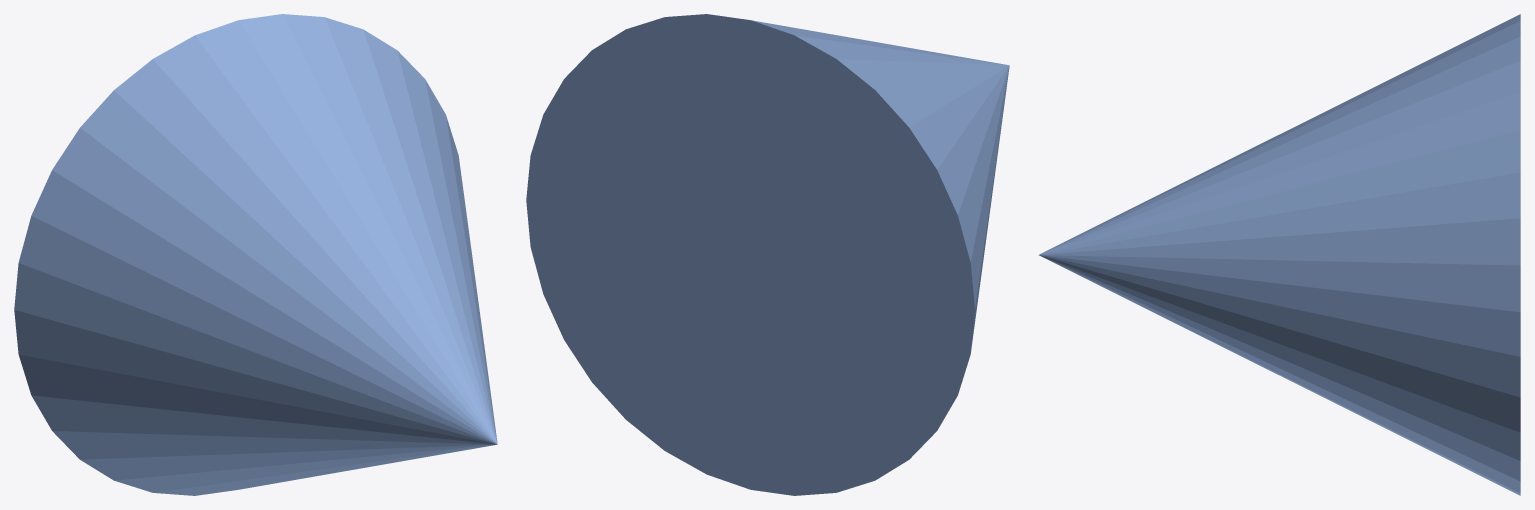
3 renders of one model, left to right at view 1: azimuth 30°, elevation 25°; view 2: azimuth 150°, elevation 25°; view 3: azimuth 270°, elevation 25°, orthographic. The views are drawn at different scales.
Parts seen in each view (by area): view 1: world; view 2: world; view 3: world.
Boxes of the visible parts, x1,y1,x2,y2 form: world: [14, 14, 497, 495]; world: [526, 14, 1009, 495]; world: [1039, 14, 1520, 495].
Size of the model in its own units: 2 by 2 by 2.
